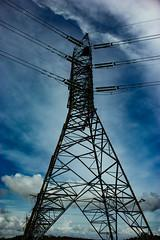power_tower: (18, 30, 154, 237)
